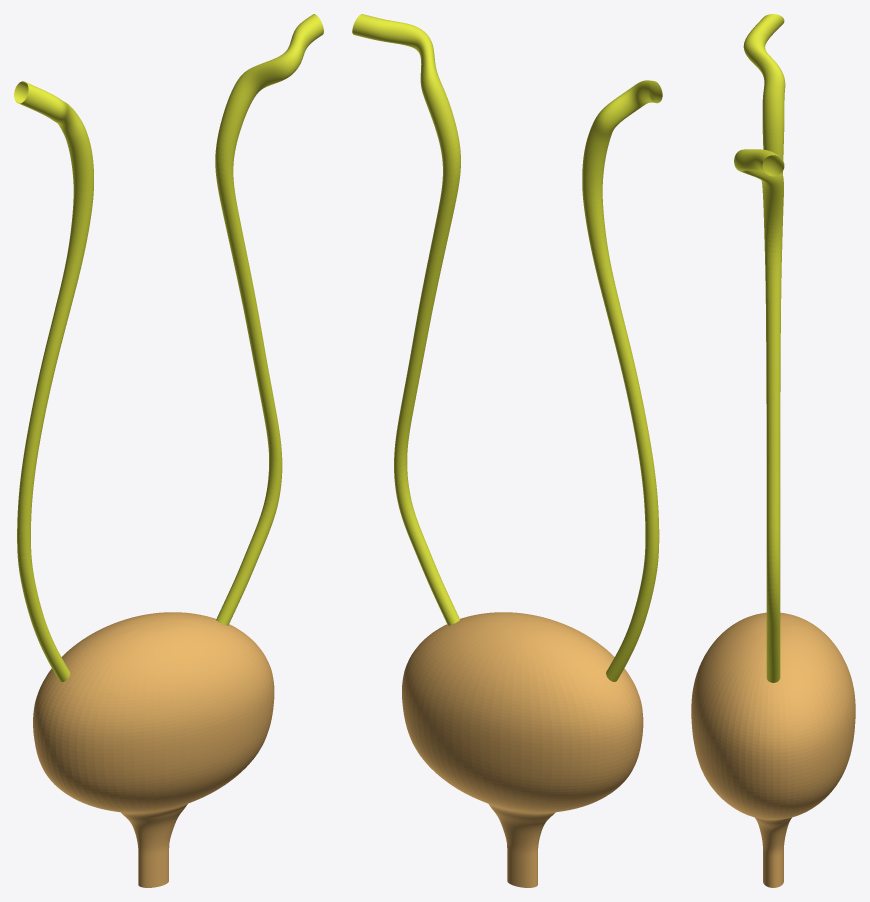
Rendered from Bladder.fbx.
The picture shows the model from 3 angles, left to right: view 1: azimuth 30°, elevation 25°; view 2: azimuth 150°, elevation 25°; view 3: azimuth 270°, elevation 25°; orthographic projection. The views are drawn at different scales.
Visible parts, largest first — view 1: Bladder; view 2: Bladder; view 3: Bladder.
Boxes of the visible parts, bbox=[...] form: Bladder: bbox=[14, 14, 323, 887]; Bladder: bbox=[352, 14, 662, 887]; Bladder: bbox=[691, 14, 855, 887].
Size of the model in its own units: 4.89 by 12.83 by 2.37.
